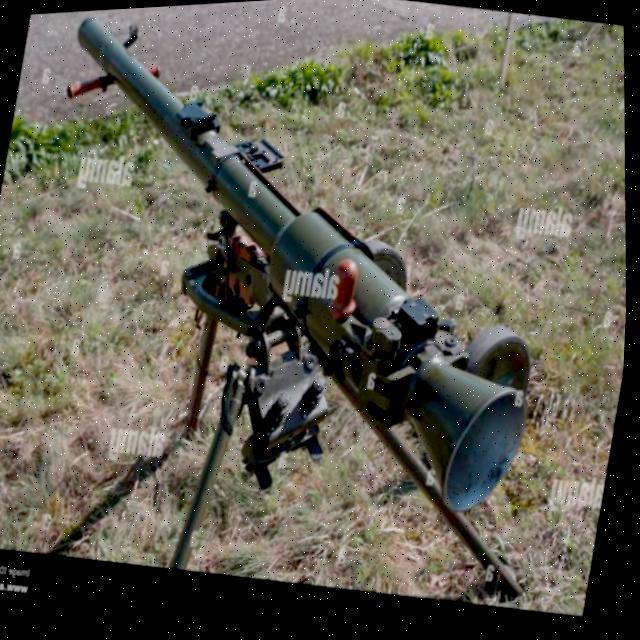rocket: (0, 0, 617, 549)
